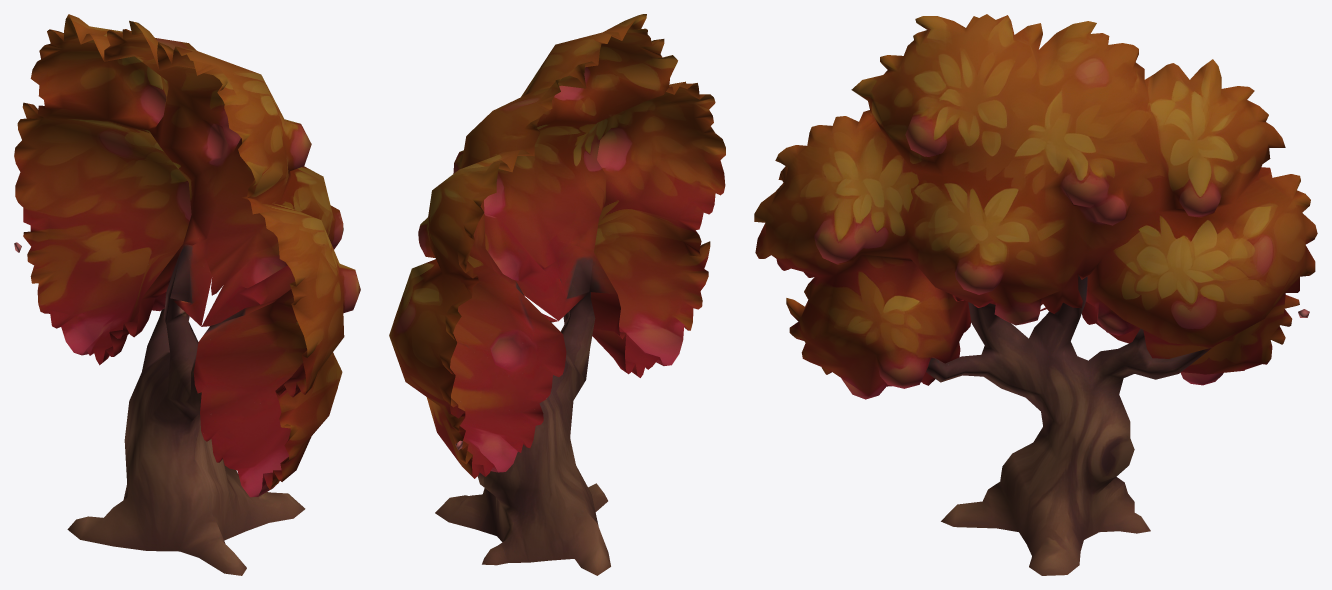
The model's file is map_appletree_tripo.glb.
The picture shows the model from 3 angles, left to right: view 1: azimuth 30°, elevation 25°; view 2: azimuth 150°, elevation 25°; view 3: azimuth 270°, elevation 25°; orthographic projection. The views are drawn at different scales.
Visible parts, largest first — view 1: tripo_node_2ffd1d3c-46aa-4f91-b443-0cb705171472; view 2: tripo_node_2ffd1d3c-46aa-4f91-b443-0cb705171472; view 3: tripo_node_2ffd1d3c-46aa-4f91-b443-0cb705171472.
Boxes of the visible parts, x1,y1,x2,y2 form: tripo_node_2ffd1d3c-46aa-4f91-b443-0cb705171472: [14, 14, 360, 575]; tripo_node_2ffd1d3c-46aa-4f91-b443-0cb705171472: [389, 14, 725, 575]; tripo_node_2ffd1d3c-46aa-4f91-b443-0cb705171472: [754, 14, 1317, 575].
Bounding box in the file's own units: 0.4004 × 0.9629 × 0.998.
Materials: 1 (1 with a texture image).
